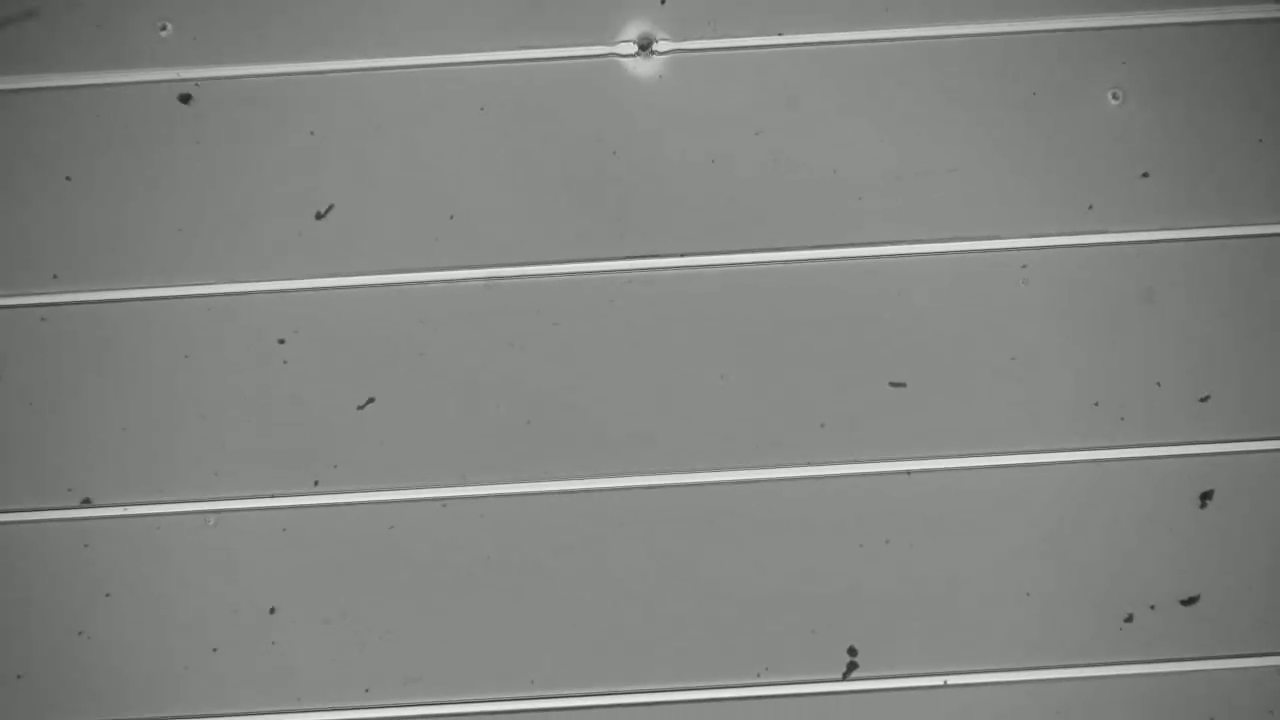stains_enbedded: (621, 23, 676, 71)
